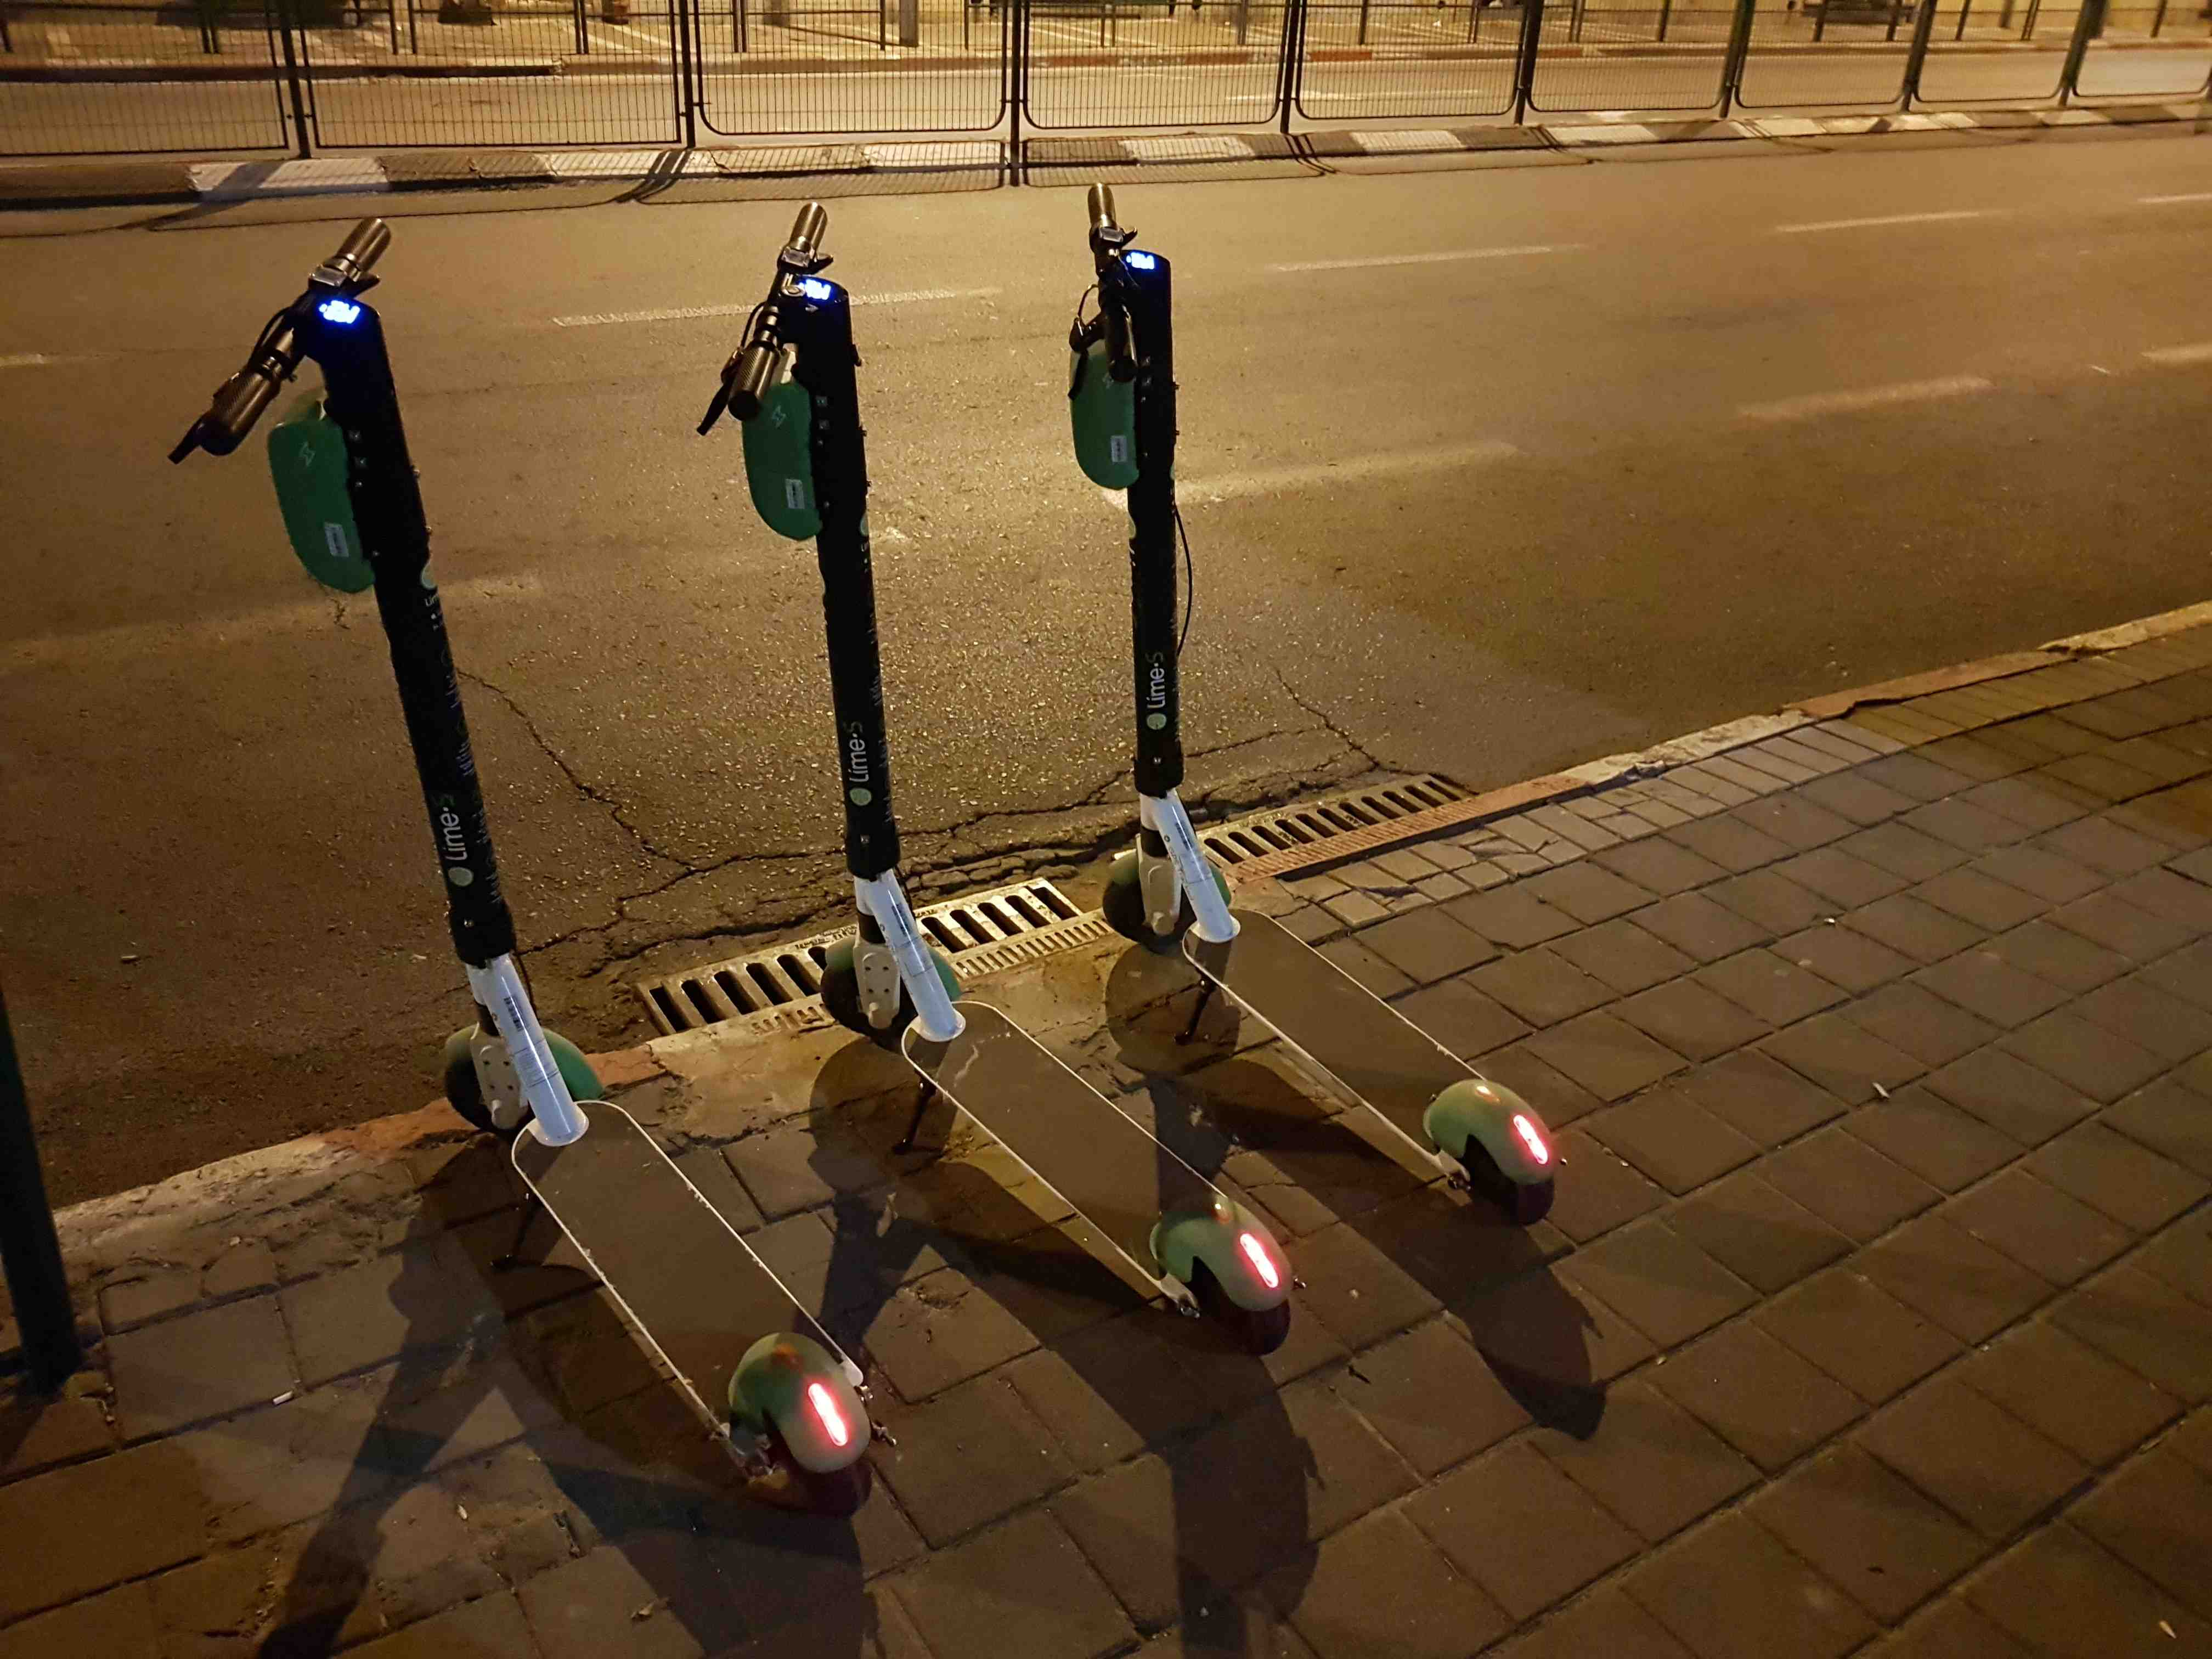too close: (1022, 788, 1308, 1025), (369, 958, 658, 1185), (751, 903, 1033, 1108)
